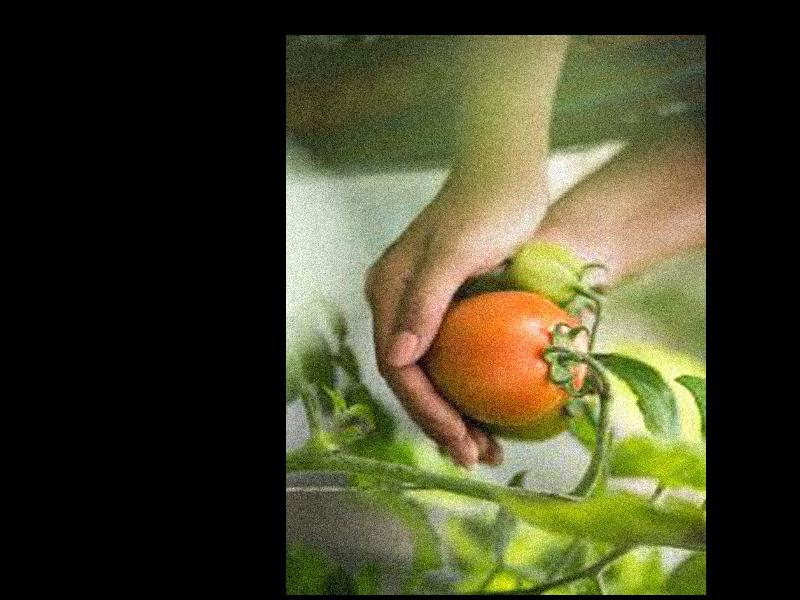Tomato: (432, 291, 586, 423)
